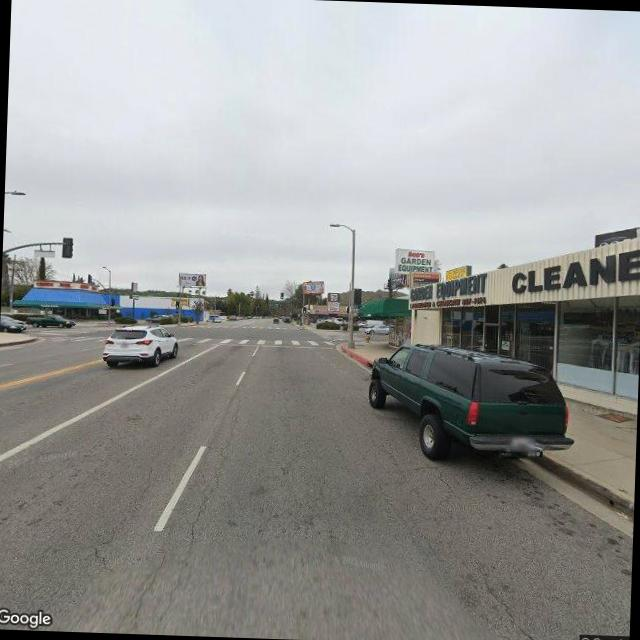pothole: (136, 391, 242, 619), (474, 562, 537, 640)
